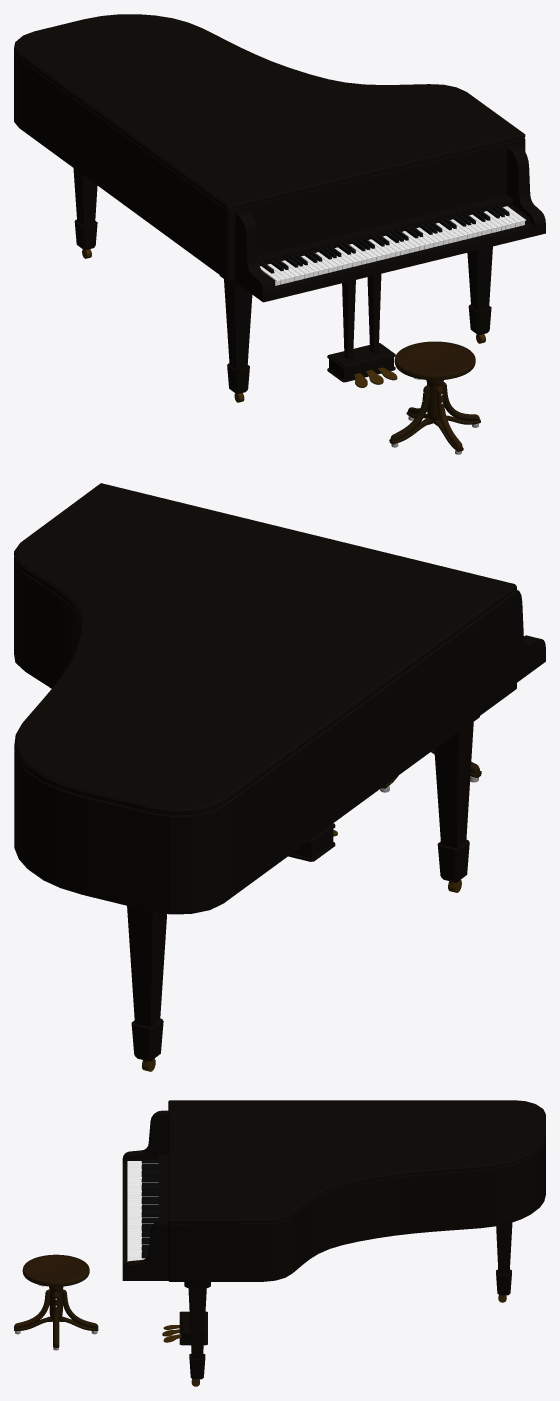
File: piano_with_chair.glb
The picture shows the model from 3 angles, top to bottom: view 1: azimuth 30°, elevation 25°; view 2: azimuth 150°, elevation 25°; view 3: azimuth 270°, elevation 25°; orthographic projection. The views are drawn at different scales.
Visible parts, largest first — view 1: Layer:PIANO_MAIN, Layer:PIANO_W_KEYS, uploads_files_147002_Piano_chair (×2), Layer:PIANO_B_KEYS, Layer:PIANO_BRASS; view 2: Layer:PIANO_MAIN; view 3: Layer:PIANO_MAIN, uploads_files_147002_Piano_chair (×2), Layer:PIANO_W_KEYS, Layer:PIANO_B_KEYS, Layer:PIANO_BRASS.
Boxes of the visible parts, bbox=[...] form: Layer:PIANO_MAIN: bbox=[14, 14, 545, 393]; Layer:PIANO_W_KEYS: bbox=[260, 206, 526, 285]; uploads_files_147002_Piano_chair (×2): bbox=[394, 341, 475, 380]; Layer:PIANO_B_KEYS: bbox=[261, 205, 509, 273]; Layer:PIANO_BRASS: bbox=[82, 249, 485, 402]; Layer:PIANO_MAIN: bbox=[14, 483, 545, 1061]; Layer:PIANO_MAIN: bbox=[122, 1100, 545, 1379]; uploads_files_147002_Piano_chair (×2): bbox=[22, 1254, 89, 1286]; Layer:PIANO_W_KEYS: bbox=[127, 1161, 158, 1261]; Layer:PIANO_B_KEYS: bbox=[141, 1159, 158, 1258]; Layer:PIANO_BRASS: bbox=[162, 1295, 506, 1386].
Size of the model in its own units: 17.18 by 11.81 by 32.11.
32 materials, 4 textured.
